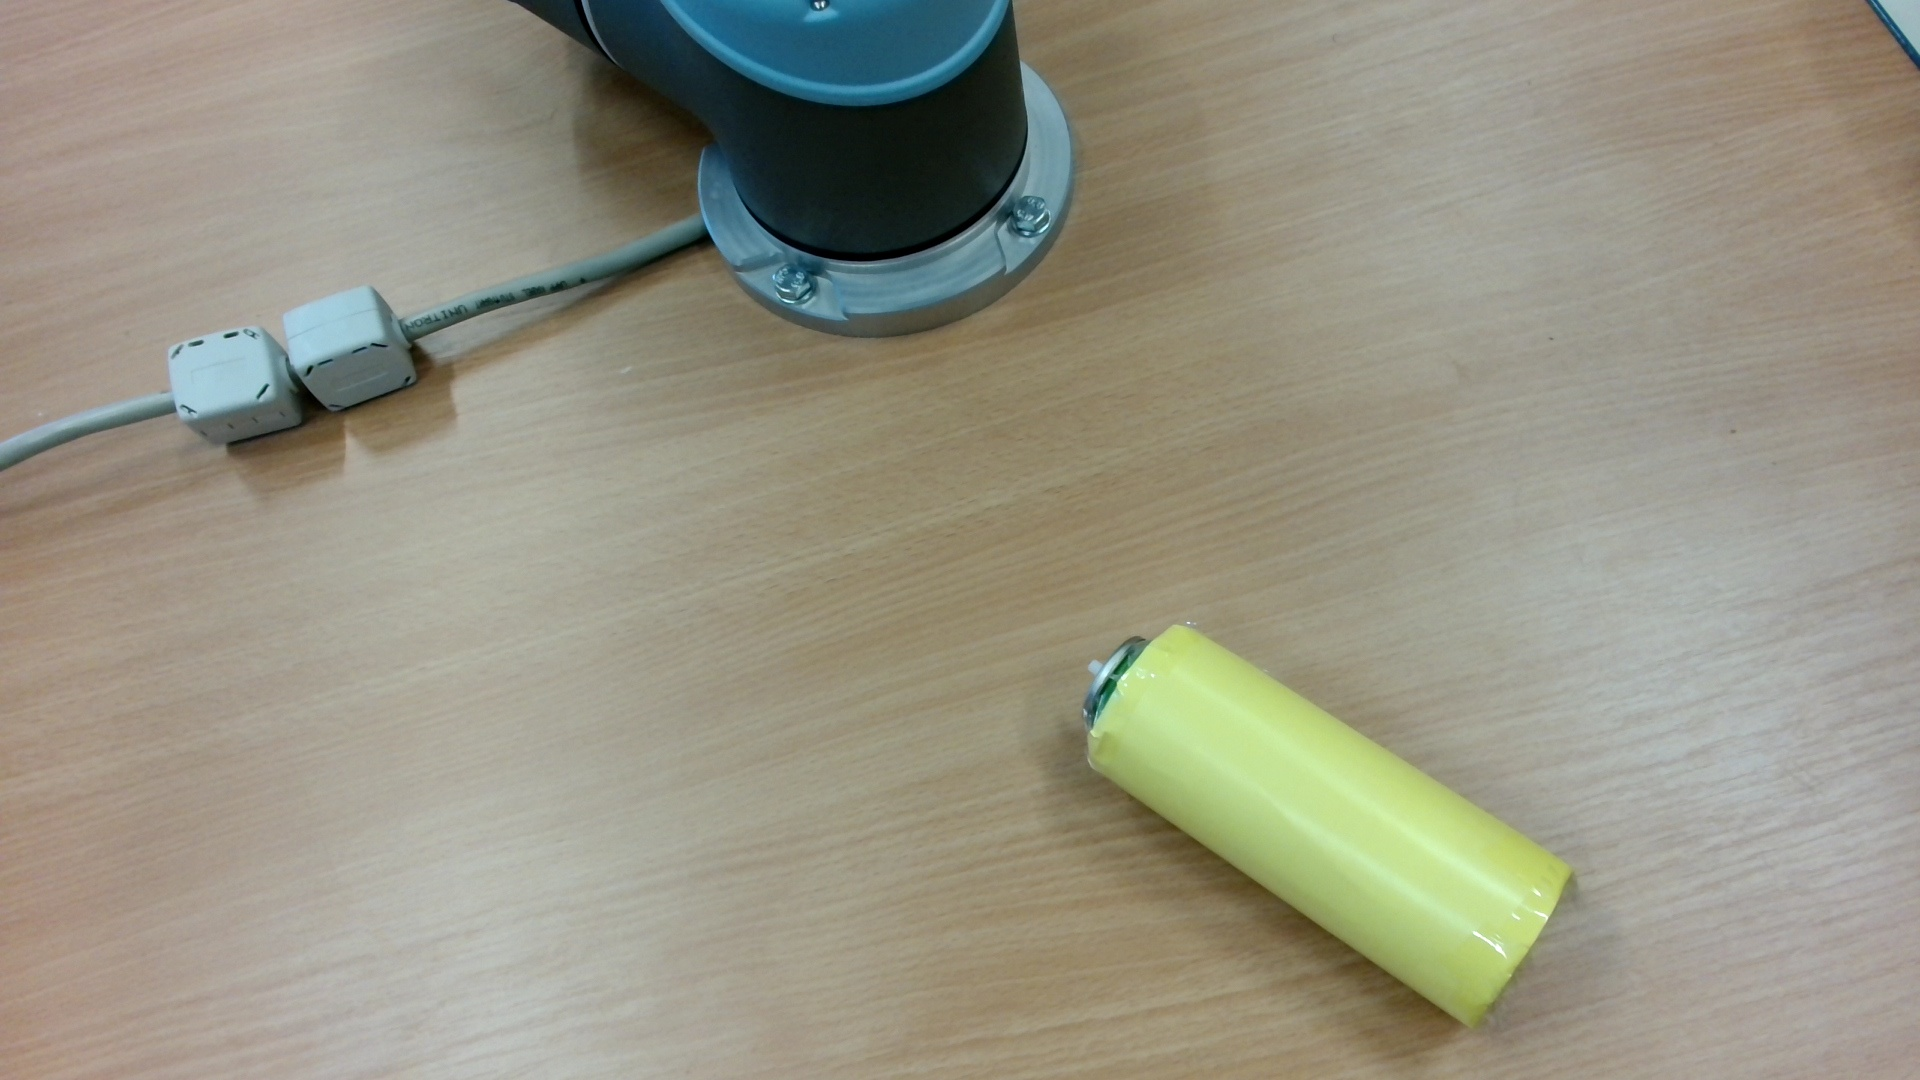Cylinder: (1068, 617, 1604, 1044)
